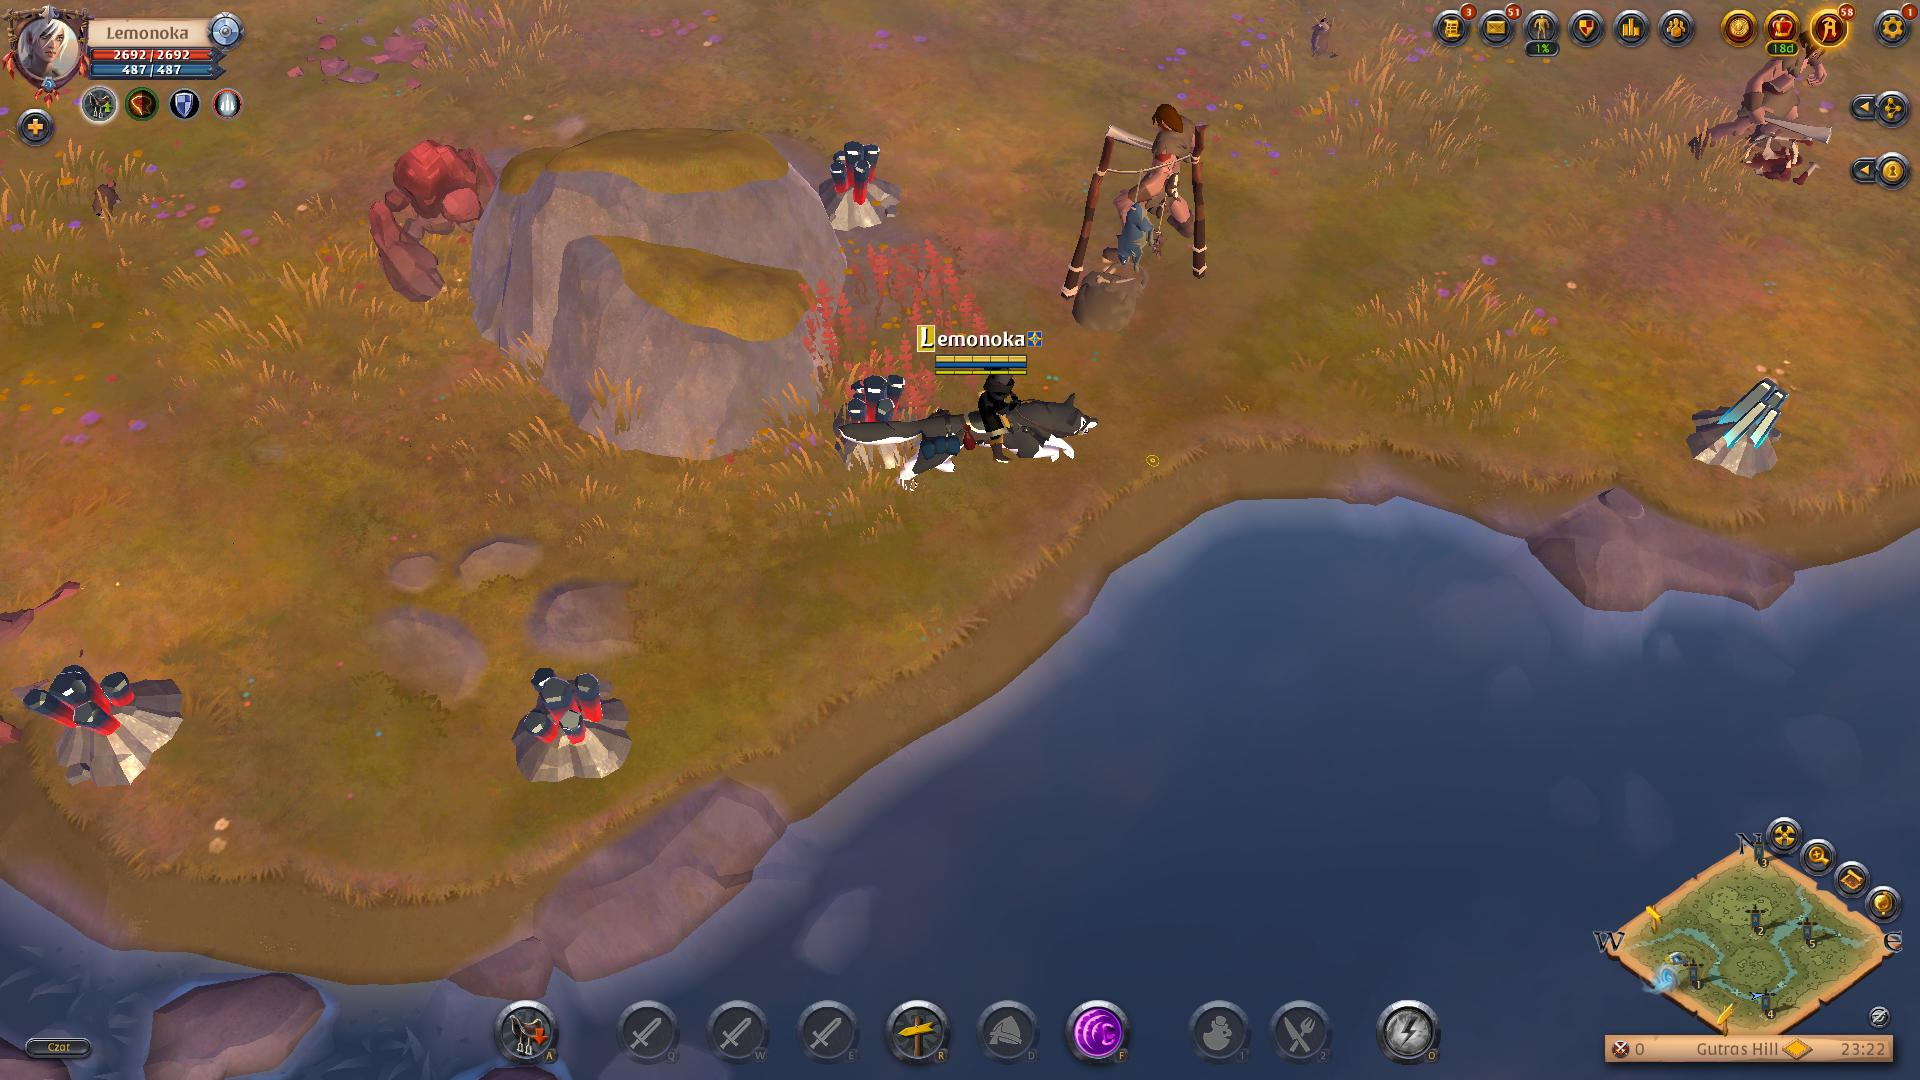ore tier 4: (1687, 375, 1793, 476)
ore tier 5: (20, 655, 191, 790), (506, 663, 633, 790), (814, 135, 903, 236)
